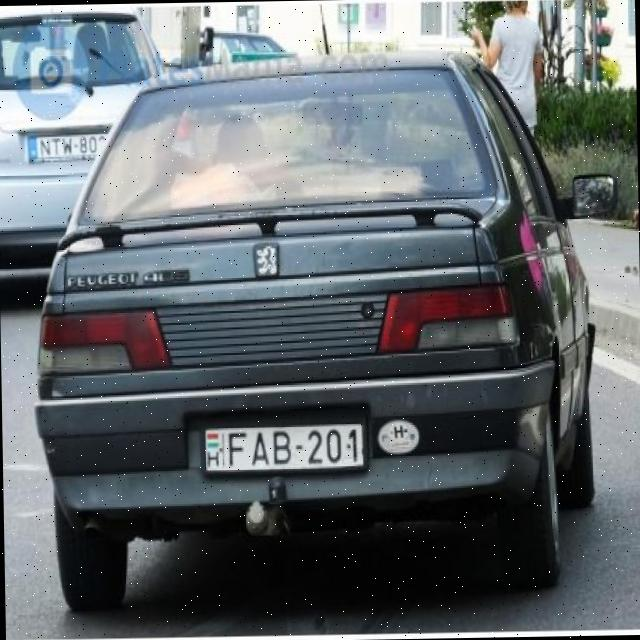licence: (200, 414, 368, 486)
